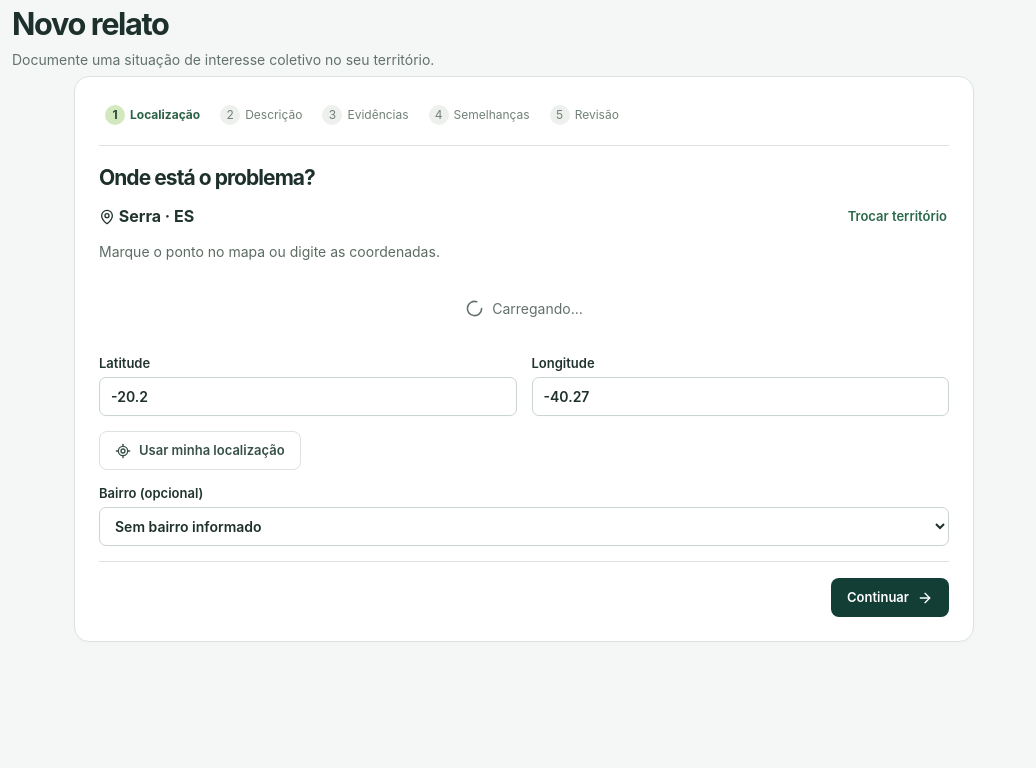
Test: revisa correspondência sugerida e mantém o vínculo escolhido no envio pendente
The width and height of the screenshot is (1036, 768).
Earlier steps of the test are not shown.
Click the button "Continuar". click: (890, 598)
box: [831,578,949,617]
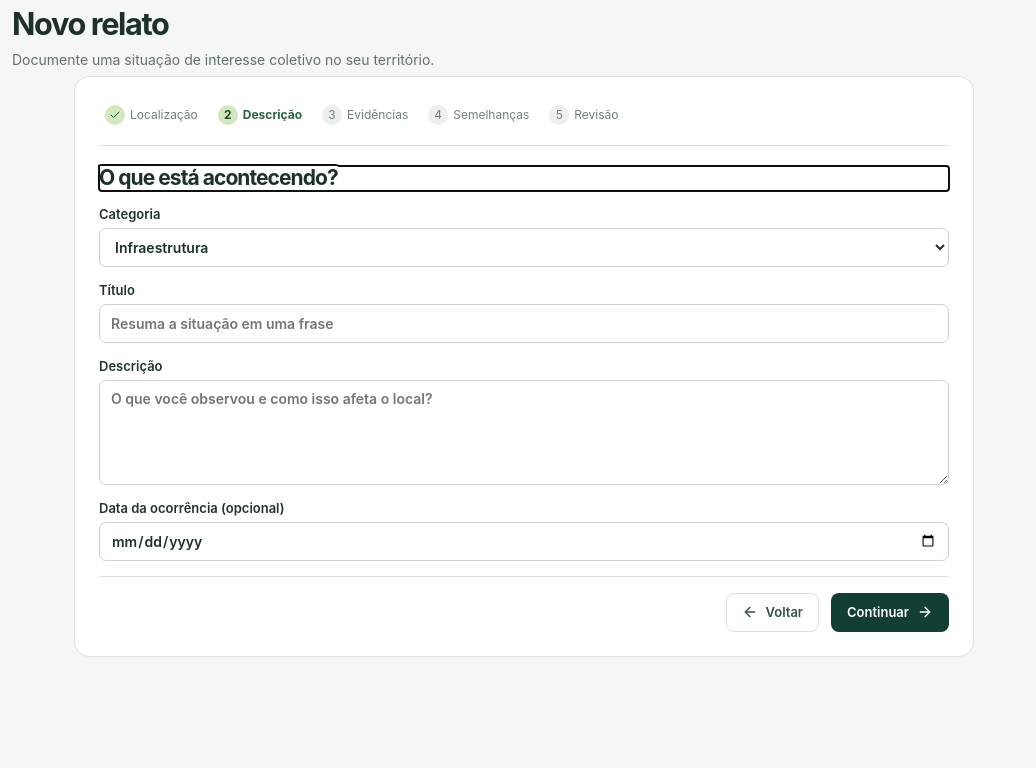
Type "Iluminação na praça" into the field labelled "Título". click: (524, 323)
box: [99,304,949,343]
Type "Relato de teste descrevendo a iluminação da praça." into the text box labelled "Descrição". click: (524, 432)
box: [99,380,949,485]
Click the button "Continuar". click: (890, 612)
box: [831,593,949,632]
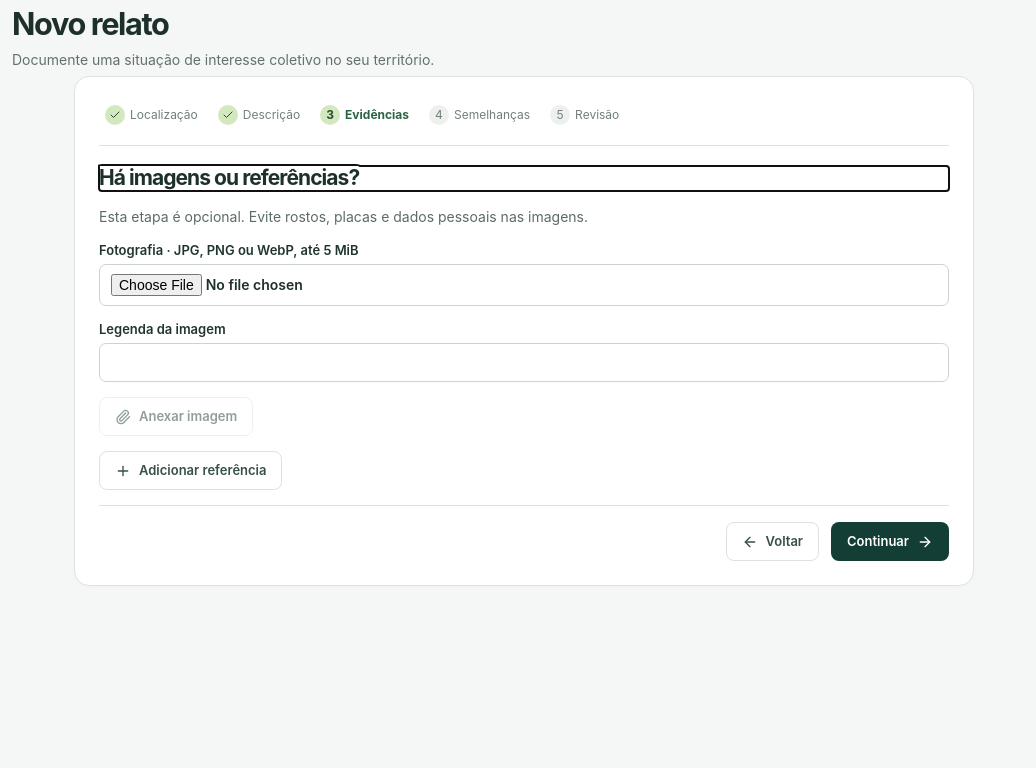
Expected: the heading "Há imagens ou referências?" is shown, [99,165,359,190]
Click the button "Continuar". click: (890, 542)
box: [831,522,949,561]
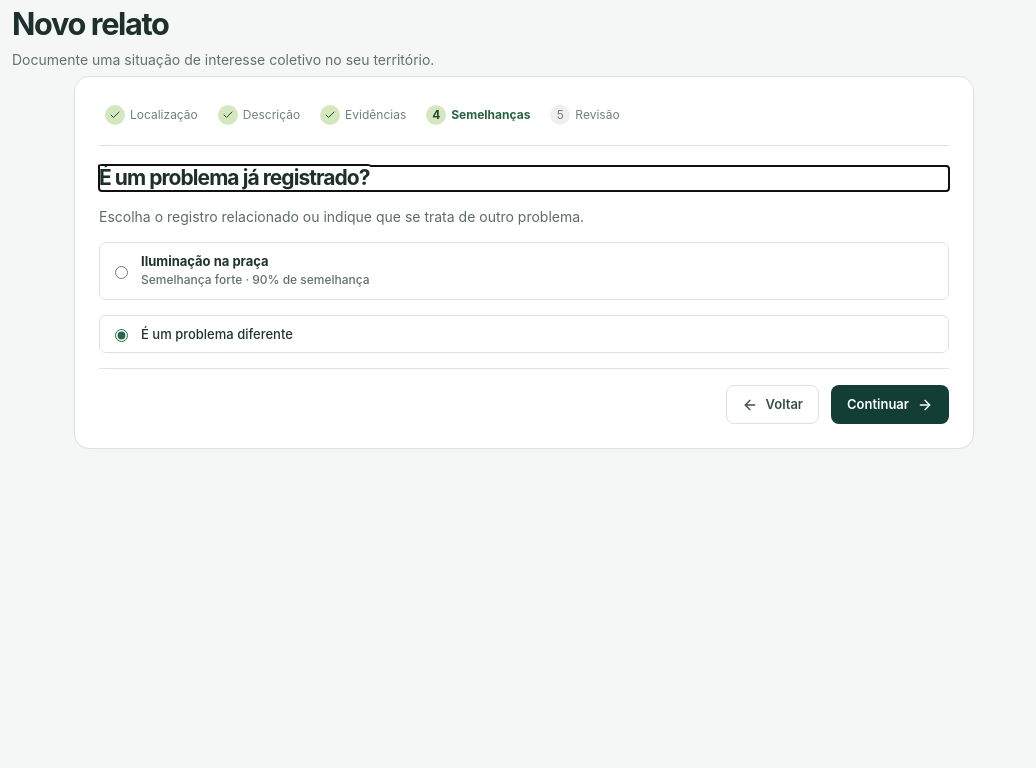
Click the radio button labelled "Iluminação na praça Semelhança forte · 90% de semelhança". click: (122, 273)
box: [115,266,128,279]
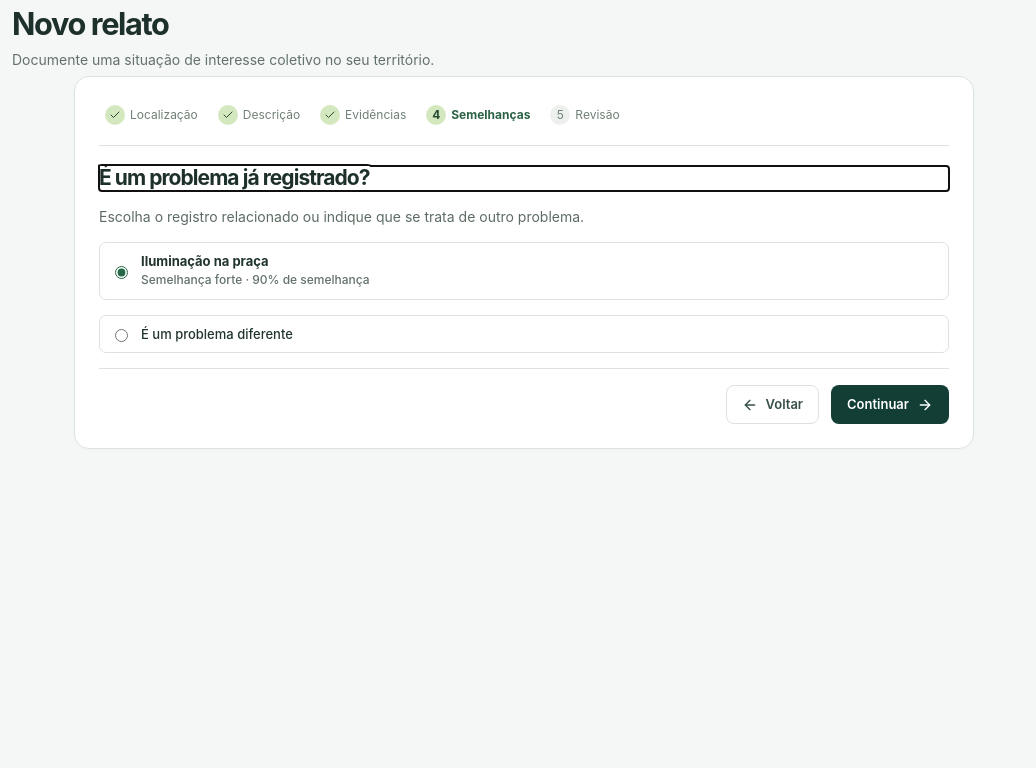
Click the button "Continuar". click: (890, 405)
box: [831,385,949,424]
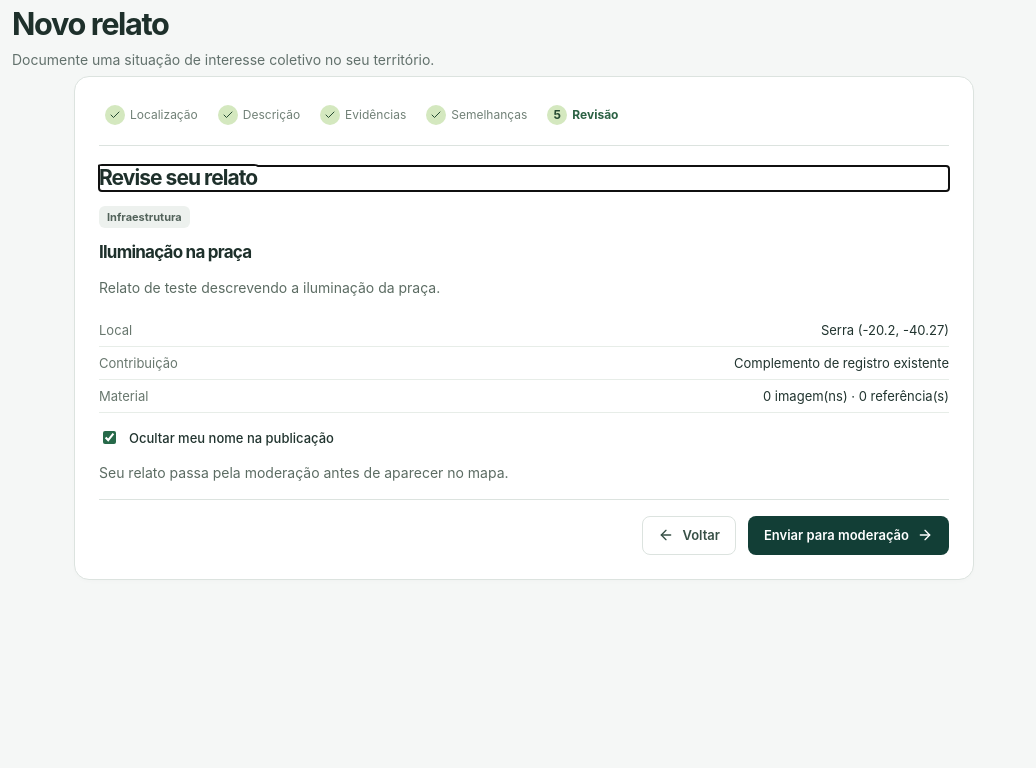
Expected: the heading "Revise seu relato" is shown, [99,165,257,190]
Click the button "Enviar para moderação". click: (848, 535)
box: [748,516,949,555]
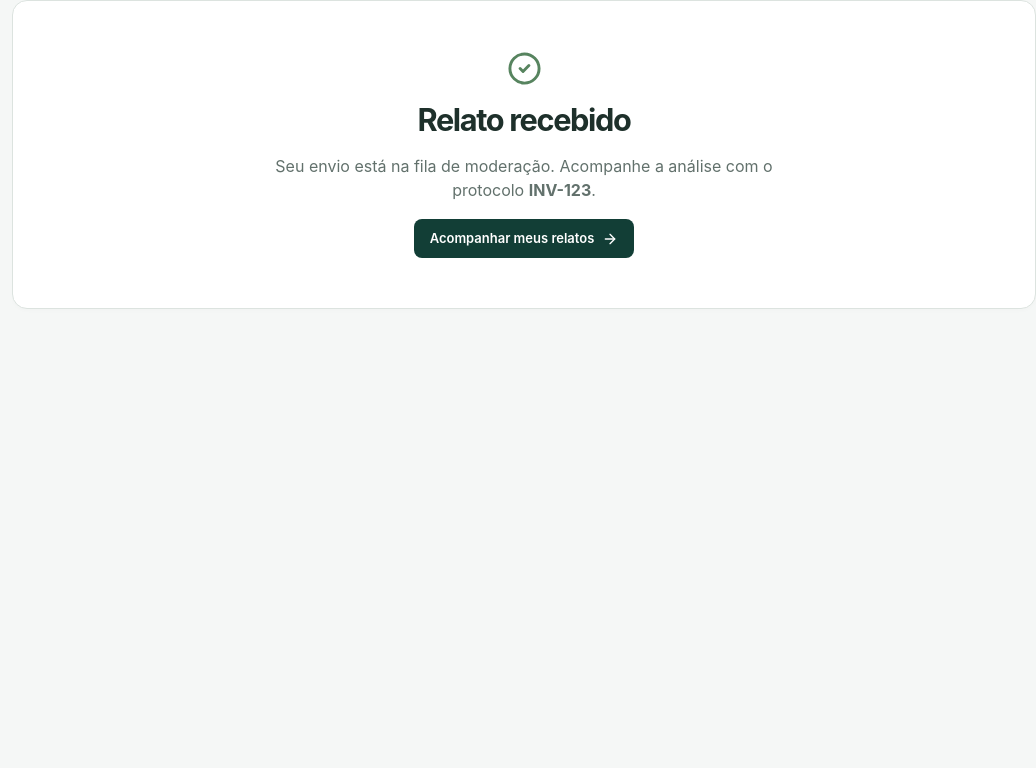
Expected: the text "INV-123" is shown, [529,180,591,200]
